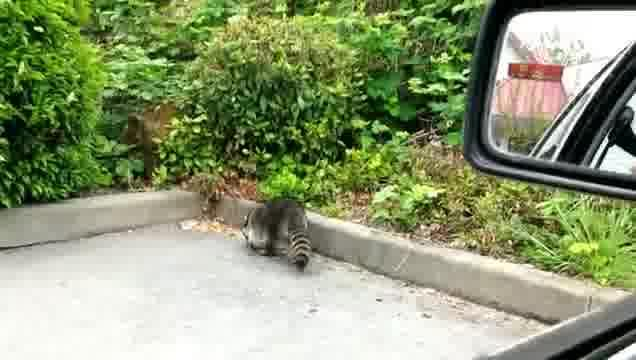raccoon: (237, 194, 312, 270)
